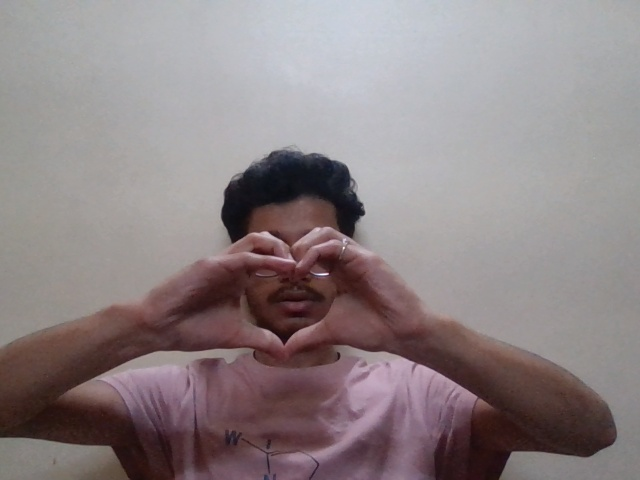silent-voice: (163, 225, 420, 382)
